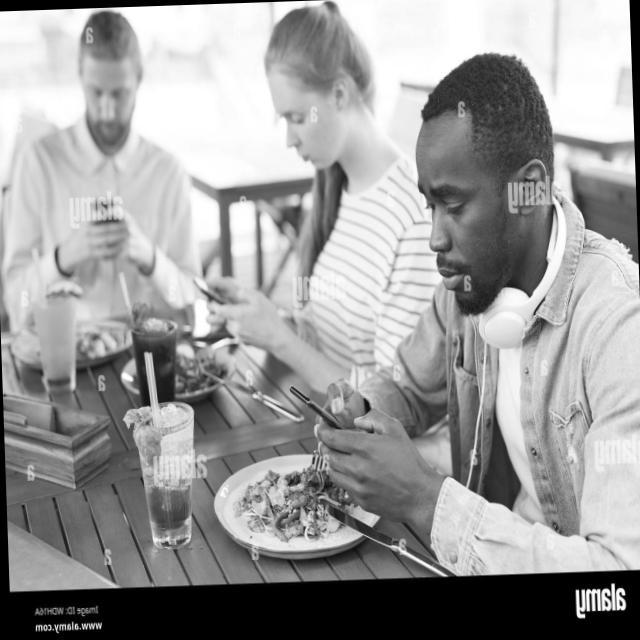phone: (290, 382, 346, 431), (192, 274, 228, 306), (92, 196, 118, 222)
